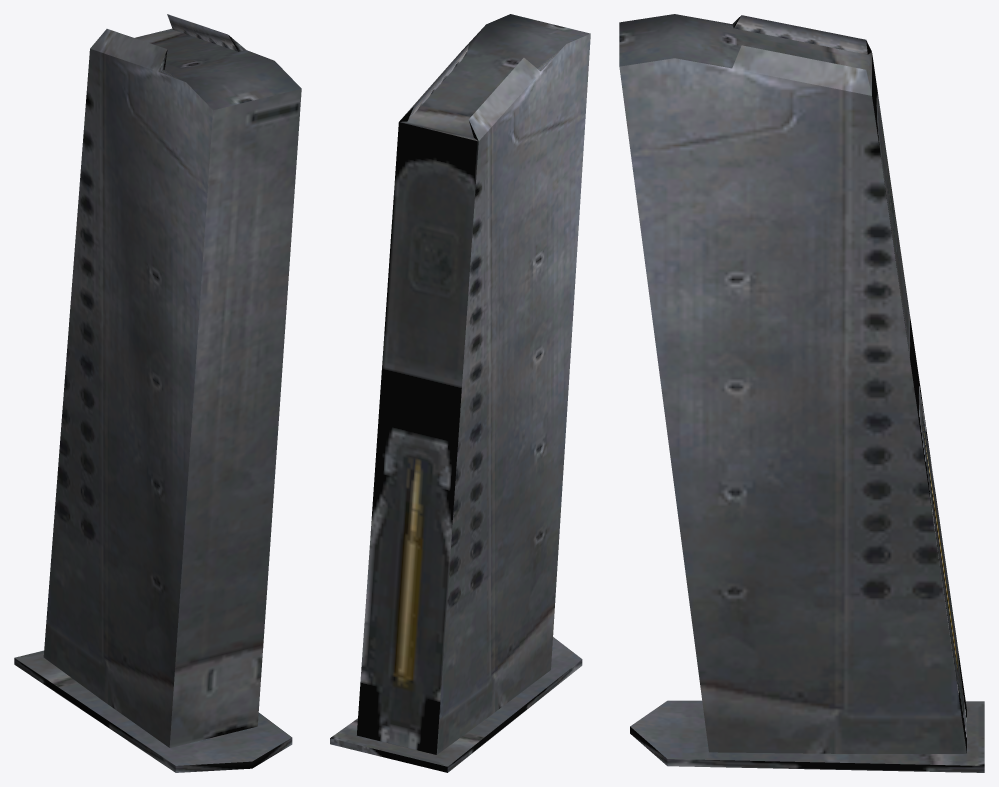
The model's file is Pistol_sq_dj_03_lod2_Magazine_LOD_(000663).glb.
3 renders of one model, left to right at view 1: azimuth 30°, elevation 25°; view 2: azimuth 150°, elevation 25°; view 3: azimuth 270°, elevation 25°, orthographic. The views are drawn at different scales.
Visible parts, largest first — view 1: sq_dj_03_lod2; view 2: sq_dj_03_lod2; view 3: sq_dj_03_lod2.
Part boxes in pixels (<box>): sq_dj_03_lod2: <box>14,14,301,772</box>; sq_dj_03_lod2: <box>330,14,590,772</box>; sq_dj_03_lod2: <box>619,14,984,772</box>.
Size of the model in its own units: 0.0337 by 0.1722 by 0.0802.
Materials: 1 (1 with a texture image).
